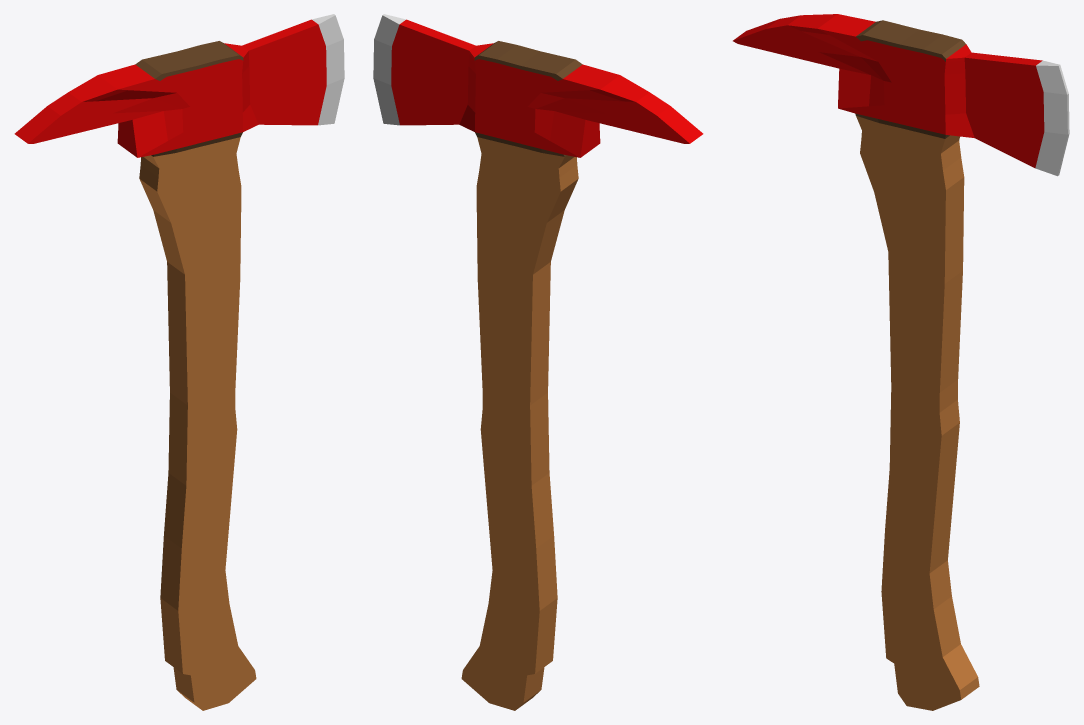
Rendered from Axe.fbx.
The picture shows the model from 3 angles, left to right: view 1: azimuth 30°, elevation 25°; view 2: azimuth 150°, elevation 25°; view 3: azimuth 330°, elevation 25°; orthographic projection. The views are drawn at different scales.
Visible parts, largest first — view 1: Cube; view 2: Cube; view 3: Cube.
Part boxes in pixels (x1,y1,x2,y2): Cube: [14, 14, 344, 710]; Cube: [373, 14, 703, 710]; Cube: [733, 14, 1069, 710].
Bounding box in the file's own units: 161 × 312 × 17.11.
